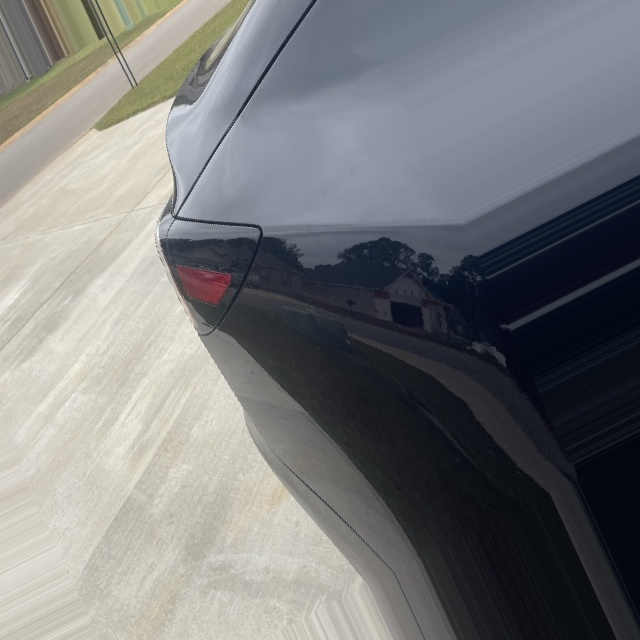reflector: (173, 244, 239, 315)
